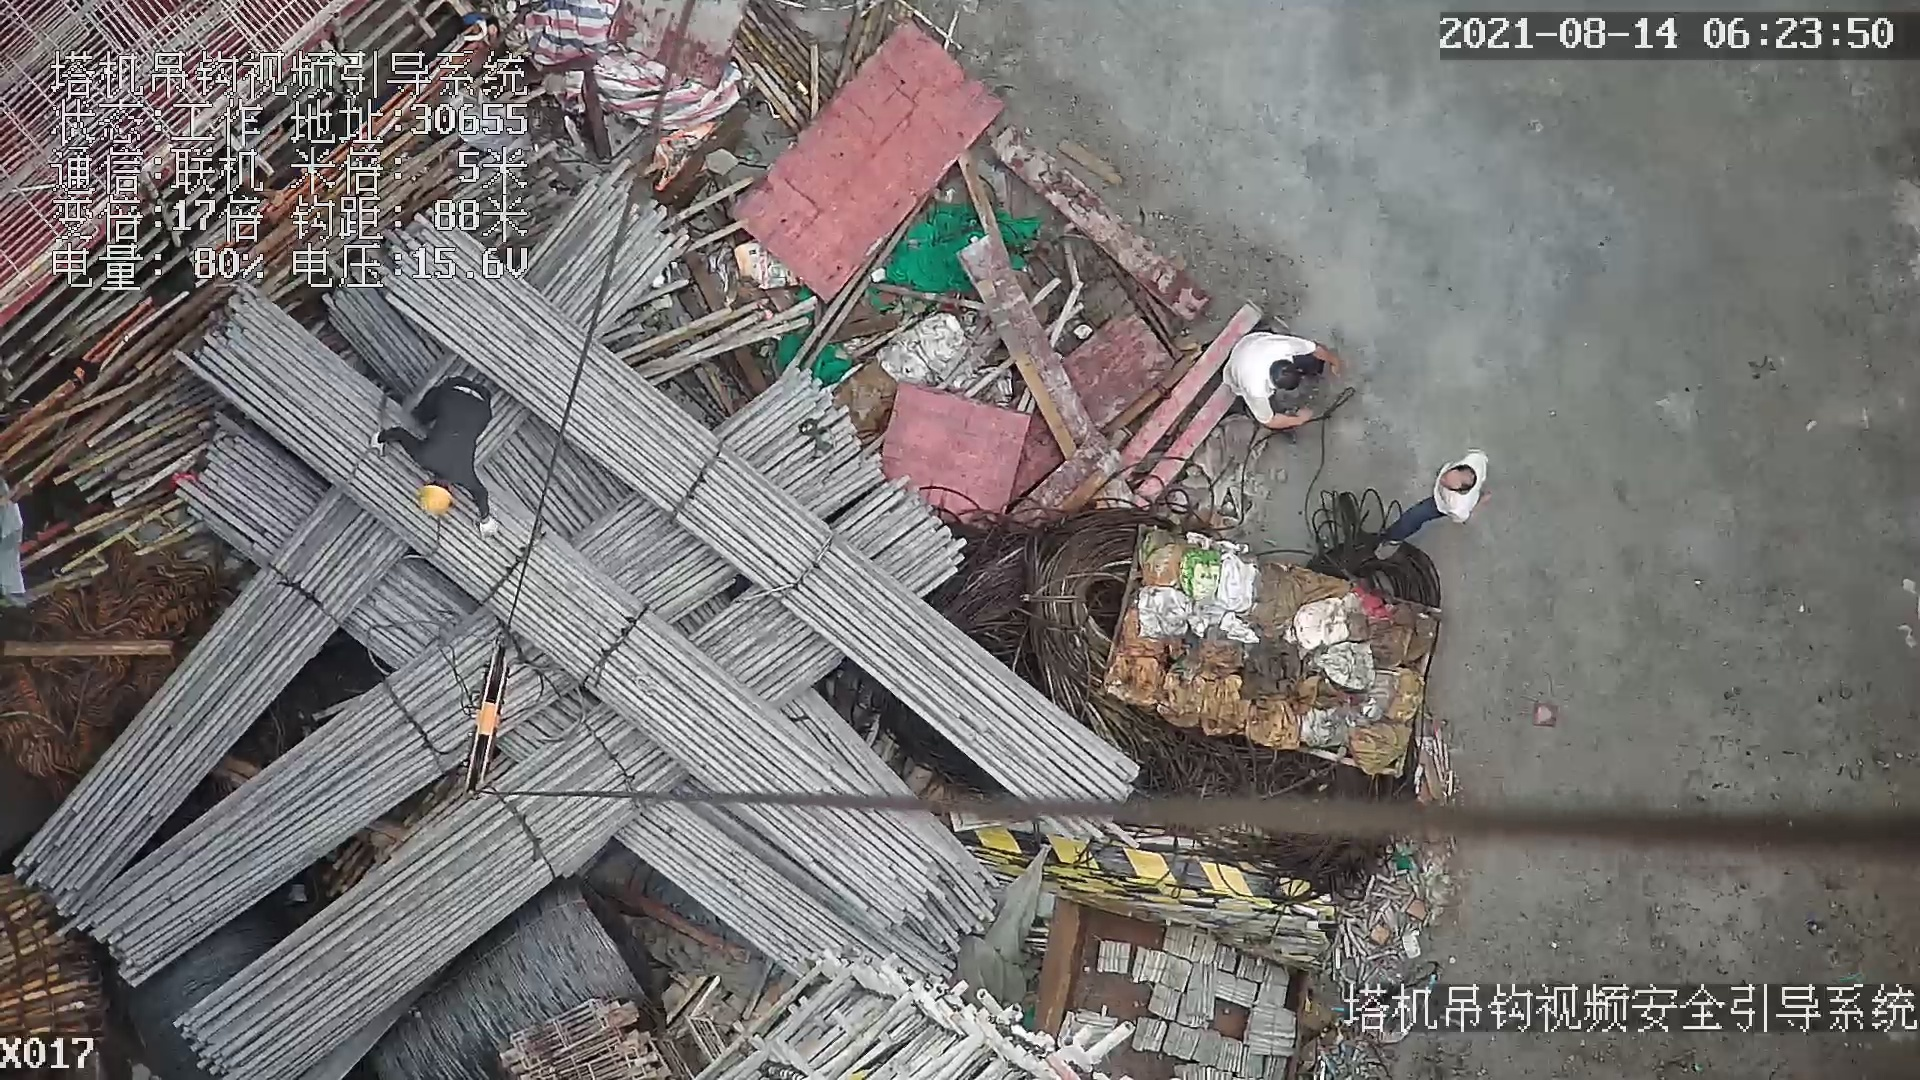helmet: (420, 486, 453, 512)
hook: (463, 640, 532, 797)
person: (370, 378, 505, 541), (1218, 332, 1351, 432), (1374, 449, 1492, 559)
rebar: (179, 285, 933, 923), (386, 281, 1144, 843), (61, 612, 581, 988), (176, 706, 686, 1080), (15, 473, 413, 920)
wood: (1, 869, 112, 1031)
